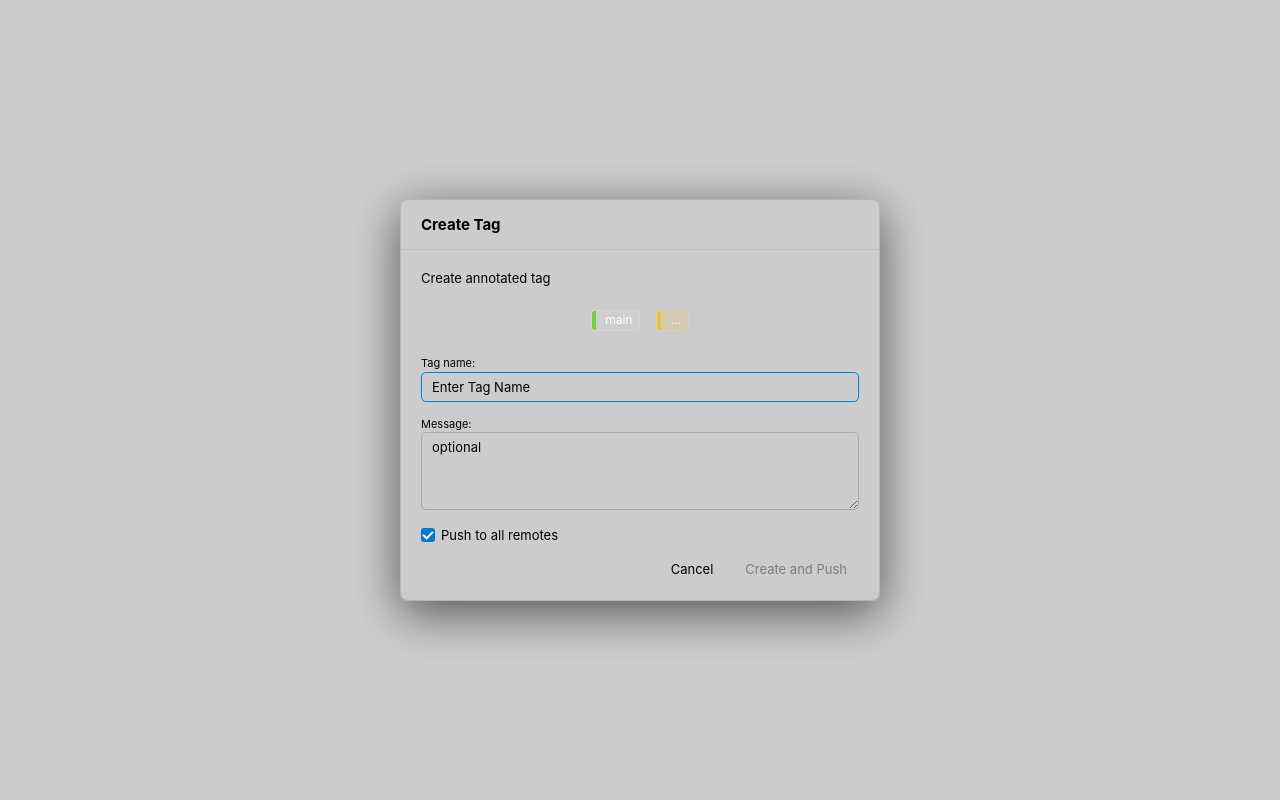
Test: CreateTagModal › rejects ref names with invalid characters via the validator
In the field with id "create-tag-name": (640, 387) [421,372,859,402], type "bad:name"
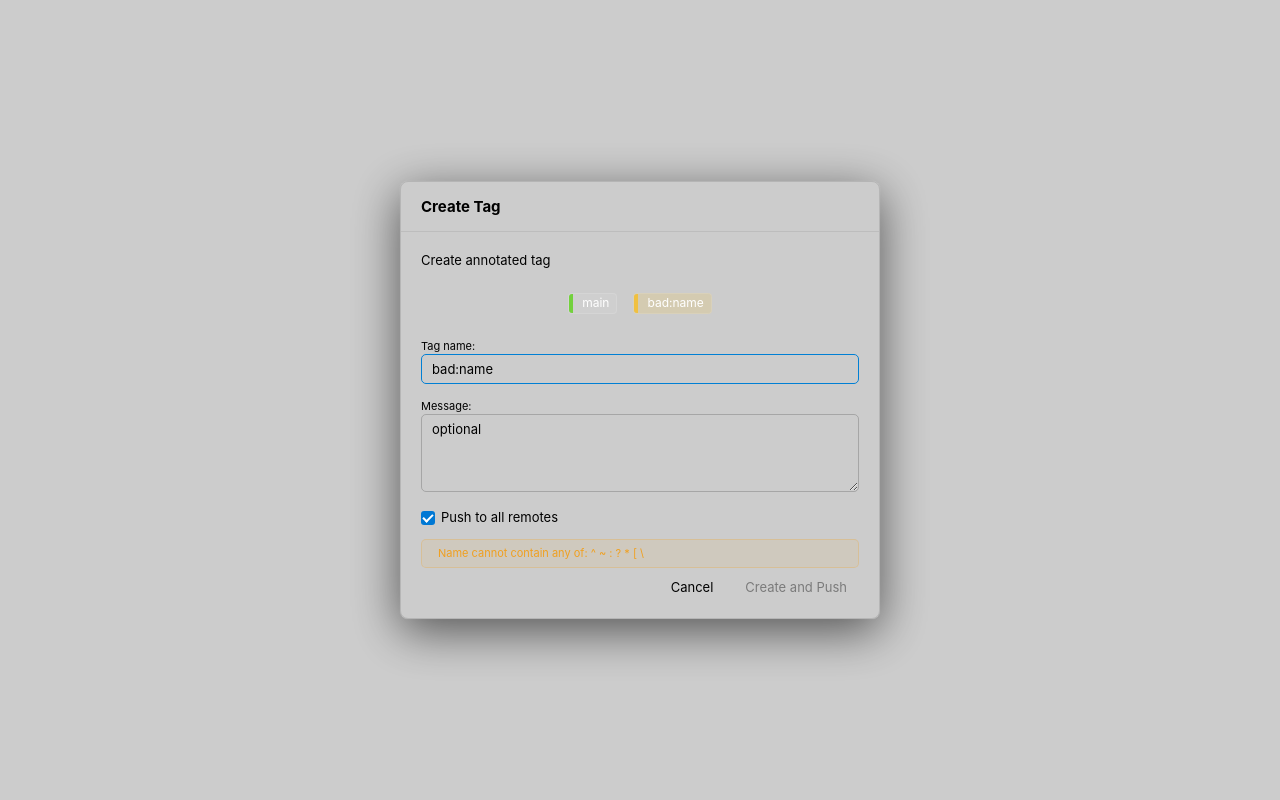
Expected: the button "Create and Push" is disabled, [733,574,859,600]
Result: the message "Name cannot contain any of: ^ ~ : ? * [ \\" is shown at [421,539,859,568]
